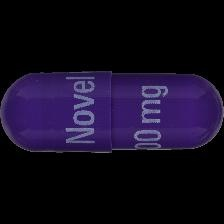43386-660: (0, 0, 224, 224)
